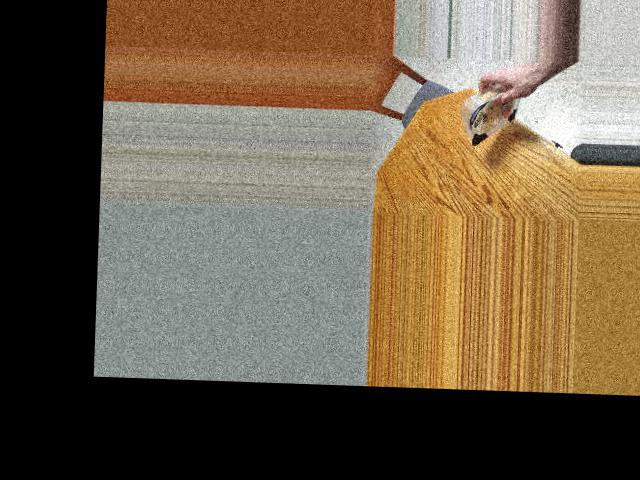cheese: (454, 86, 538, 144)
